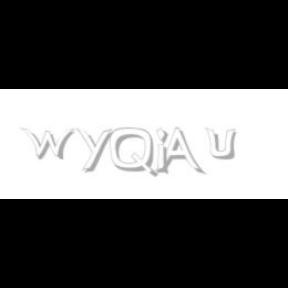A: (154, 128, 202, 176)
Q: (110, 128, 156, 178)
i: (156, 128, 172, 176)
u: (206, 128, 240, 160)
w: (20, 128, 79, 160)
y: (76, 128, 116, 172)
